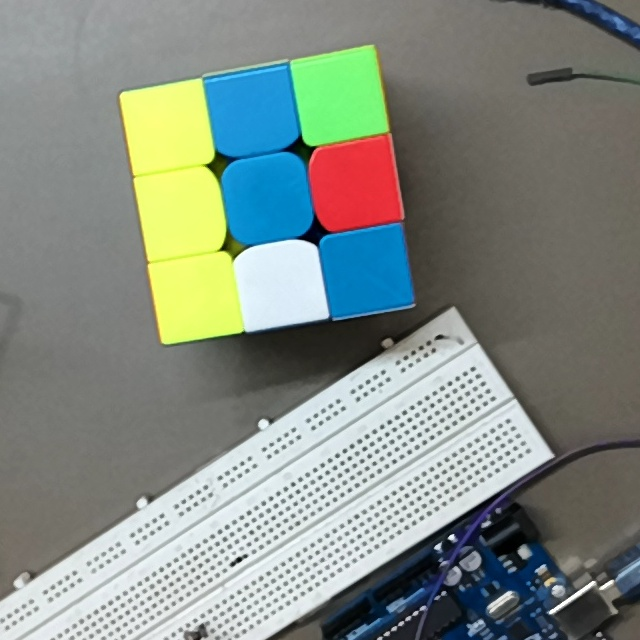tile: (333, 237, 404, 309), (234, 168, 305, 237), (217, 78, 289, 146), (309, 62, 377, 133), (133, 95, 204, 162), (145, 183, 217, 249), (324, 149, 390, 220), (249, 251, 315, 320), (161, 267, 231, 331)
